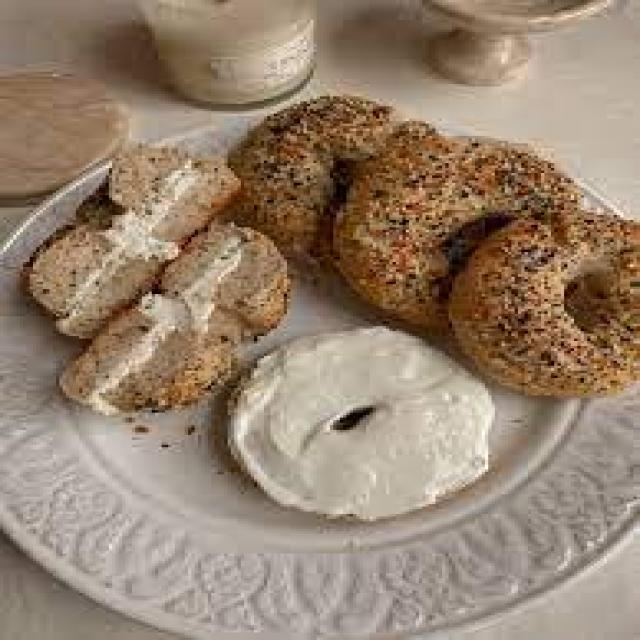Bagel: (332, 121, 579, 328), (449, 213, 639, 396), (229, 96, 392, 254)
